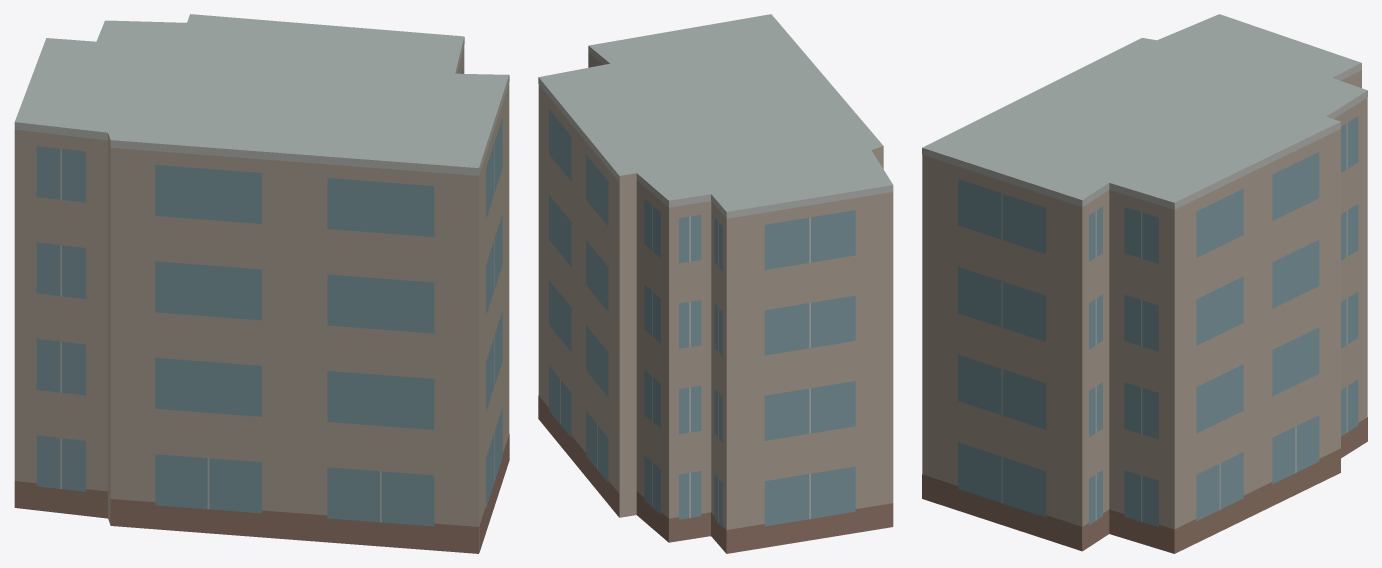
File: survey-upis-32577686.glb
The picture shows the model from 3 angles, left to right: view 1: azimuth 30°, elevation 25°; view 2: azimuth 150°, elevation 25°; view 3: azimuth 270°, elevation 25°; orthographic projection. The views are drawn at different scales.
Parts seen in each view (by area): view 1: survey-upis-32577686.tmp; view 2: survey-upis-32577686.tmp; view 3: survey-upis-32577686.tmp.
Boxes of the visible parts, x1=… form: survey-upis-32577686.tmp: x1=14, y1=14, x2=509, y2=553; survey-upis-32577686.tmp: x1=538, y1=14, x2=893, y2=553; survey-upis-32577686.tmp: x1=922, y1=14, x2=1367, y2=553.
Bounding box in the file's own units: 14.08 × 12.2 × 14.04.
